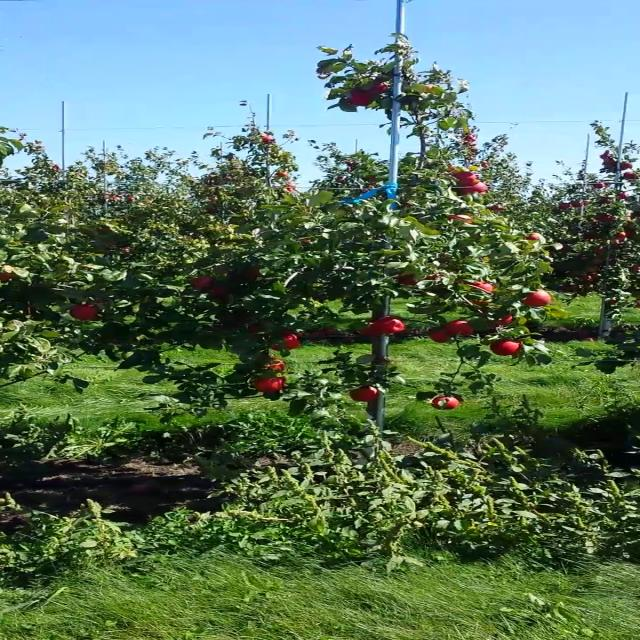apple: (372, 317, 406, 334), (490, 340, 522, 356), (349, 386, 377, 403), (523, 290, 549, 307), (255, 378, 284, 393), (458, 182, 489, 196), (69, 305, 96, 321), (444, 322, 474, 336), (432, 396, 460, 411), (362, 82, 388, 96), (455, 173, 479, 187), (348, 92, 371, 106), (191, 276, 214, 290), (428, 331, 451, 344), (284, 333, 300, 349), (266, 358, 284, 372), (398, 274, 418, 286), (363, 325, 382, 337), (450, 214, 472, 224), (470, 282, 492, 292), (492, 316, 512, 326), (210, 287, 226, 295), (423, 84, 437, 93), (1, 272, 13, 282), (524, 234, 538, 240)
